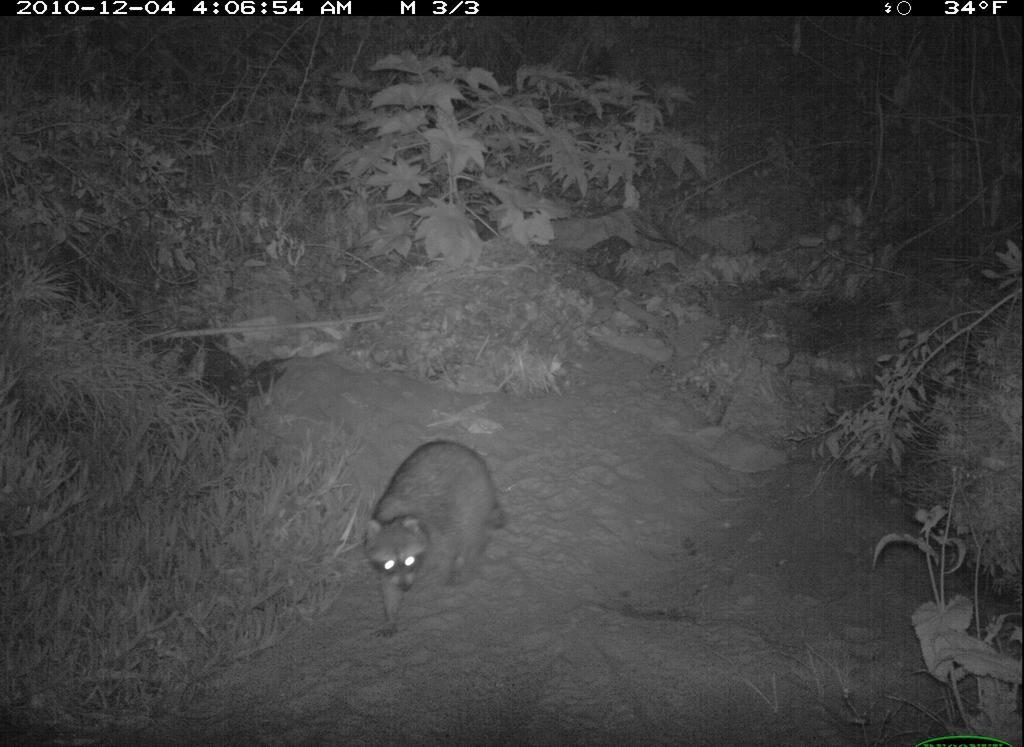raccoon: (353, 431, 521, 651)
